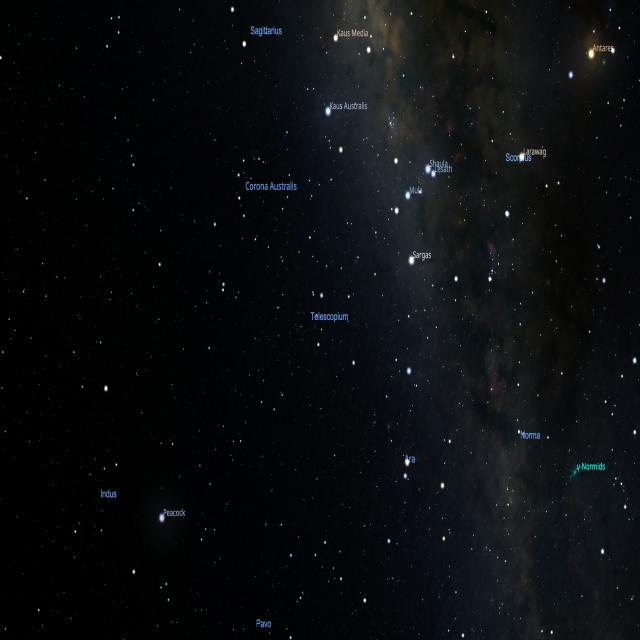Telescopium: (314, 287, 329, 343)
